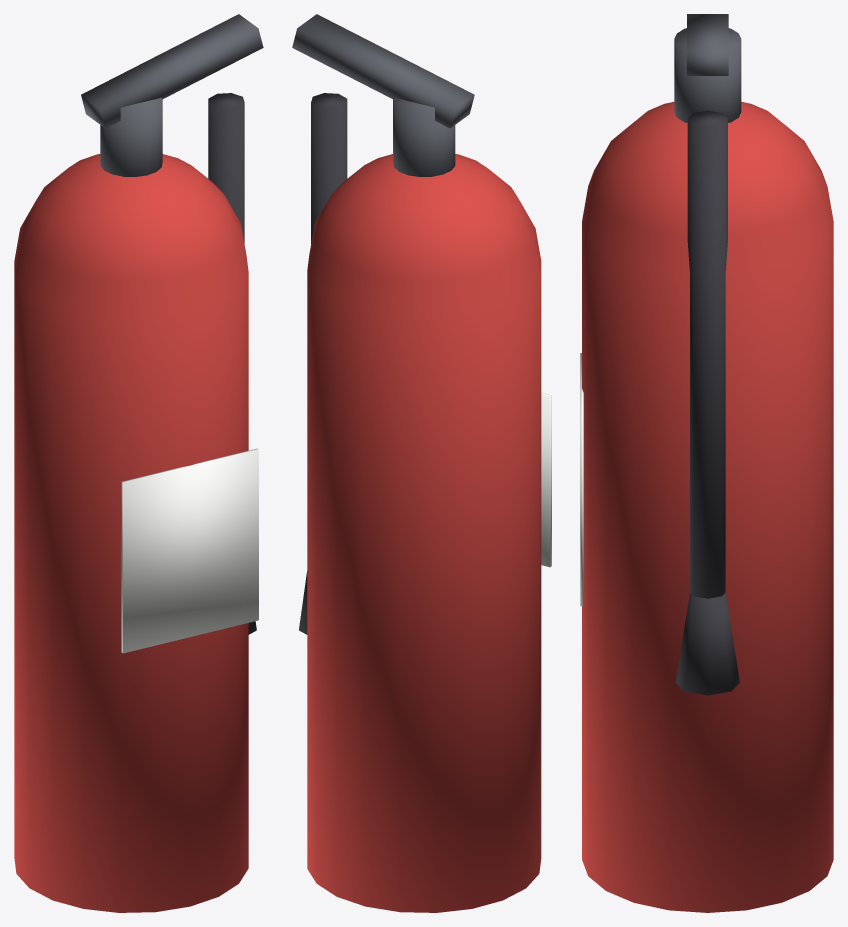
Rendered from SM_FireExtinguisher.fbx.
3 renders of one model, left to right at view 1: azimuth 30°, elevation 25°; view 2: azimuth 150°, elevation 25°; view 3: azimuth 270°, elevation 25°, orthographic. The views are drawn at different scales.
Parts seen in each view (by area): view 1: SM_FireExtinguisher; view 2: SM_FireExtinguisher; view 3: SM_FireExtinguisher.
Part boxes in pixels (x1,y1,x2,y2): SM_FireExtinguisher: [14, 14, 263, 912]; SM_FireExtinguisher: [292, 14, 551, 912]; SM_FireExtinguisher: [580, 14, 833, 912].
Bounding box in the file's own units: 0.165 × 0.5721 × 0.151.
